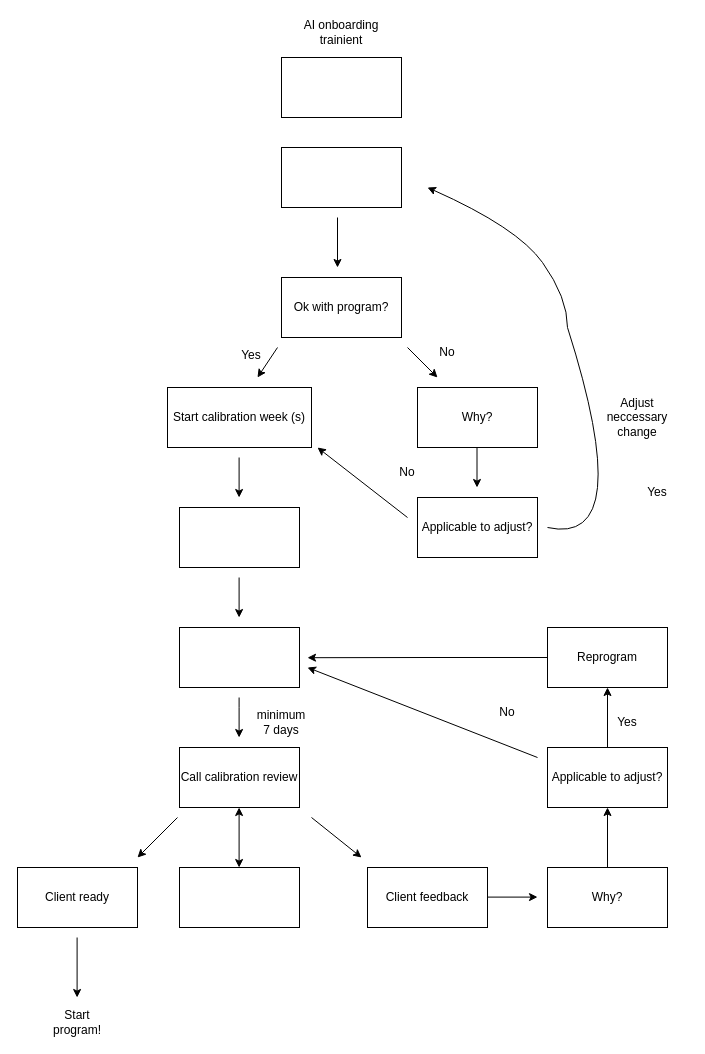
Image size: 705x1054. Some labels were removed from this diagram. Each missing label, with the centre of its shape:
"Add information regarding what a calibration week is" belongs at [239,537].
"Calibration phase" belongs at [239,657].
"Not ready yet!" belongs at [239,897].
"Onboarding questions" belongs at [341,87].
"Program generation" belongs at [341,177].
